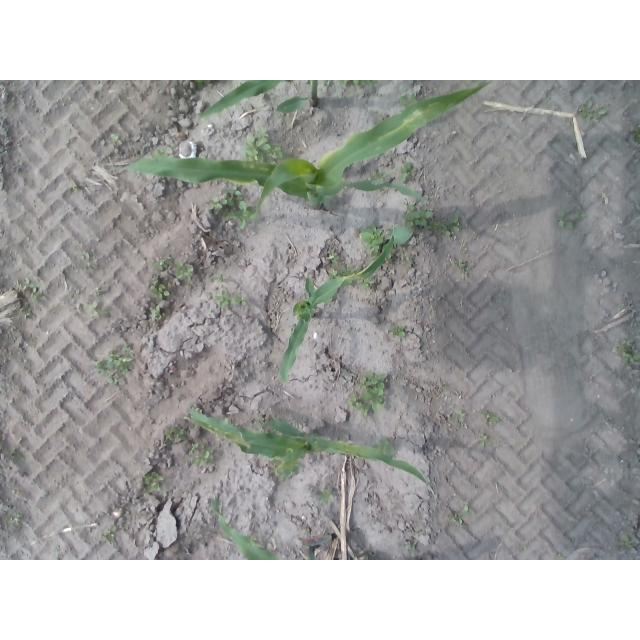Maize: (127, 81, 491, 215), (184, 406, 426, 484), (281, 222, 396, 386), (210, 496, 276, 560), (198, 81, 283, 120), (277, 80, 320, 114), (308, 544, 320, 560)
Weeds: (209, 183, 260, 229), (348, 368, 391, 421), (90, 341, 136, 389), (247, 125, 286, 163), (14, 277, 46, 316), (154, 255, 194, 282), (359, 223, 384, 257), (433, 210, 462, 238), (400, 205, 433, 228), (213, 289, 248, 310), (613, 338, 640, 365), (86, 300, 111, 324), (164, 425, 193, 445), (189, 444, 212, 469), (273, 459, 298, 481), (581, 100, 609, 119), (143, 471, 166, 494), (448, 258, 472, 279), (149, 278, 170, 302), (100, 134, 123, 155), (98, 524, 118, 546), (81, 249, 100, 271), (558, 210, 575, 233), (317, 487, 336, 506), (338, 80, 378, 88), (374, 438, 395, 453), (68, 177, 88, 192), (359, 279, 380, 293), (404, 540, 421, 557), (400, 161, 413, 183), (6, 512, 22, 529), (398, 92, 415, 108), (253, 410, 266, 430), (372, 169, 389, 184), (482, 409, 500, 423), (390, 323, 408, 337), (151, 305, 165, 323), (190, 80, 215, 90), (327, 250, 341, 267), (11, 447, 28, 461), (453, 410, 467, 424), (618, 536, 634, 548), (151, 148, 173, 156), (448, 513, 464, 524), (90, 286, 104, 298), (478, 432, 488, 448), (340, 267, 360, 275), (217, 272, 228, 284), (359, 552, 373, 561), (634, 124, 640, 145), (326, 269, 338, 279), (462, 505, 474, 515), (577, 210, 587, 220), (555, 552, 566, 560), (322, 80, 332, 88), (520, 544, 527, 552)
